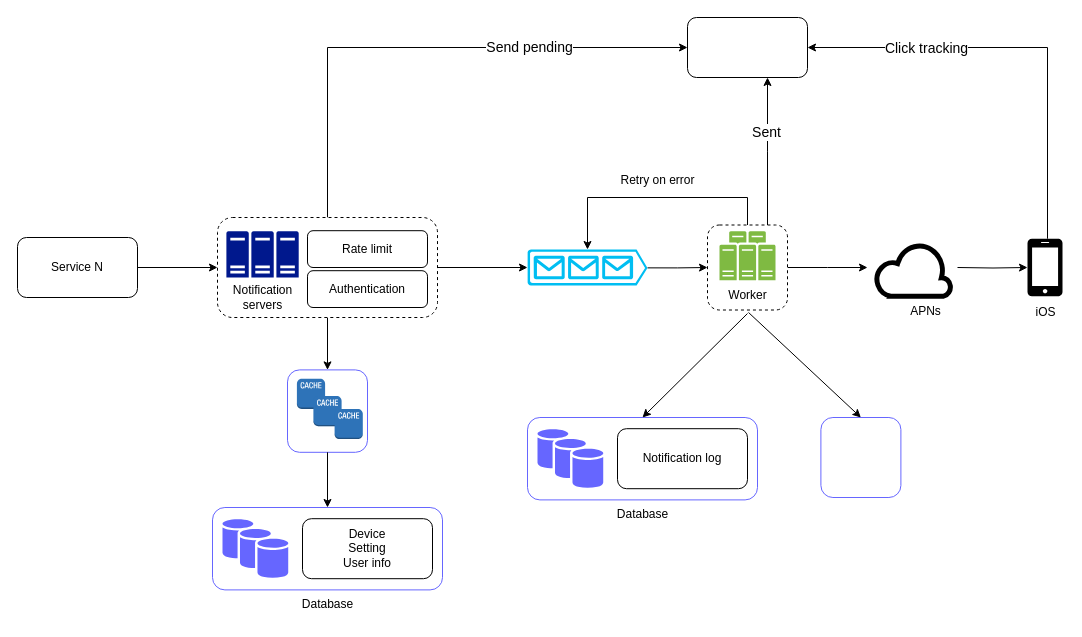
Some shapes in this 1082 by 637 pixel diagram are drawn without their labels. The centre of each missing label's shape, as x and y in pixels:
Analytic service: the point at 747,47
iOS queue: the point at 587,267
Notification template: the point at 860,457
